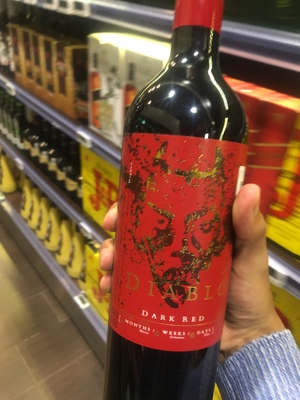diablo dark red: (101, 23, 262, 389)
